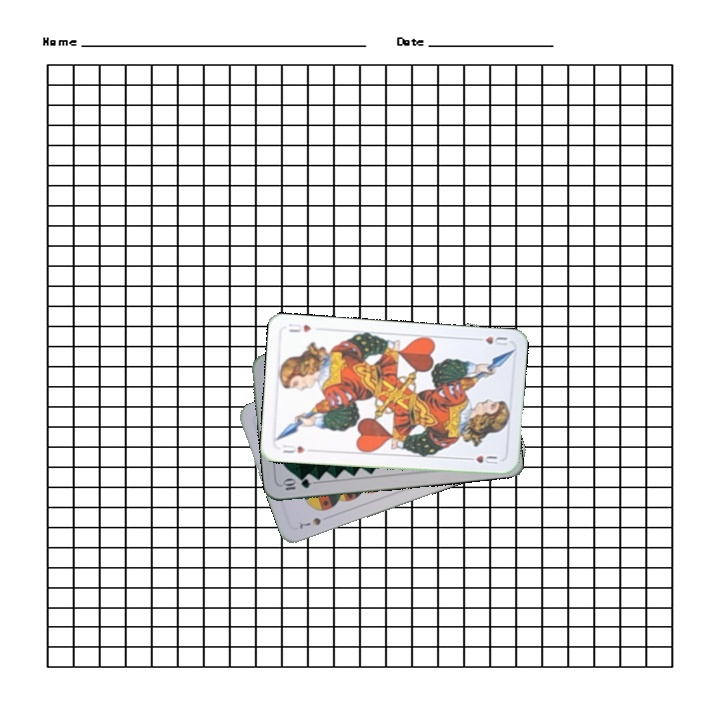G10: (278, 475, 313, 493)
HU: (471, 332, 510, 348), (278, 440, 307, 456)
S7: (295, 513, 324, 531)
